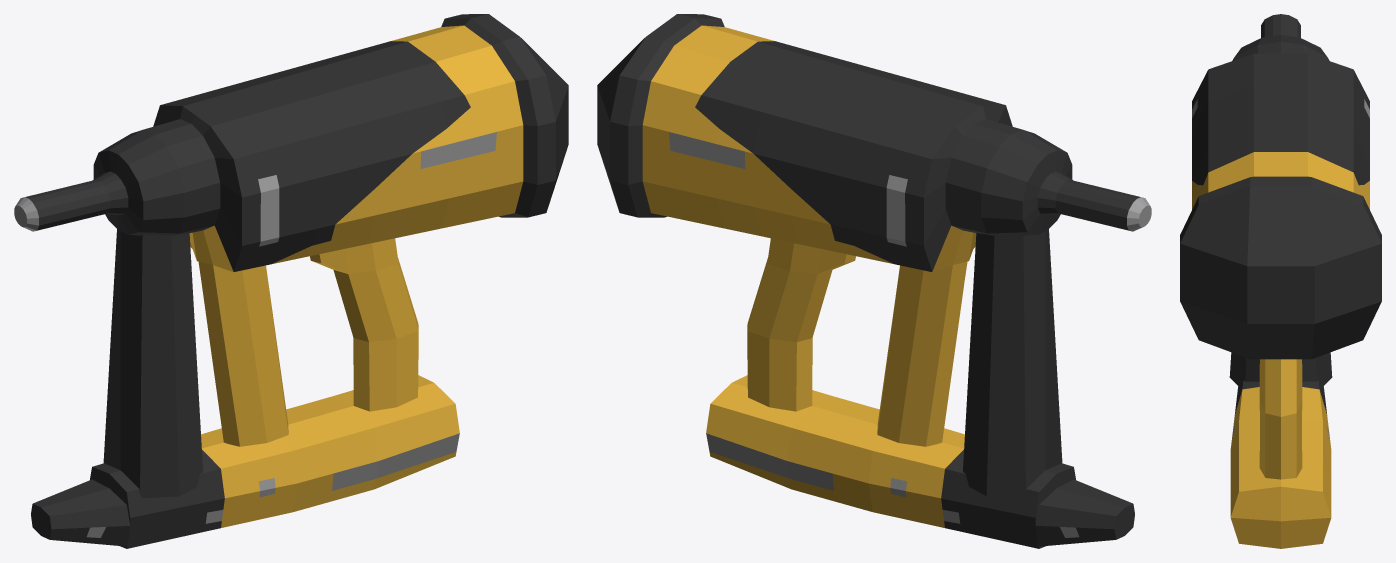
File: SM_Nailgun_01.fbx
The picture shows the model from 3 angles, left to right: view 1: azimuth 30°, elevation 25°; view 2: azimuth 150°, elevation 25°; view 3: azimuth 270°, elevation 25°; orthographic projection.
Parts seen in each view (by area): view 1: Nailgun; view 2: Nailgun; view 3: Nailgun.
Boxes of the visible parts, x1=… form: Nailgun: x1=14, y1=14, x2=568, y2=548; Nailgun: x1=597, y1=14, x2=1151, y2=548; Nailgun: x1=1180, y1=14, x2=1381, y2=548.
Bounding box in the file's own units: 0.3512 × 0.2655 × 0.1175.
